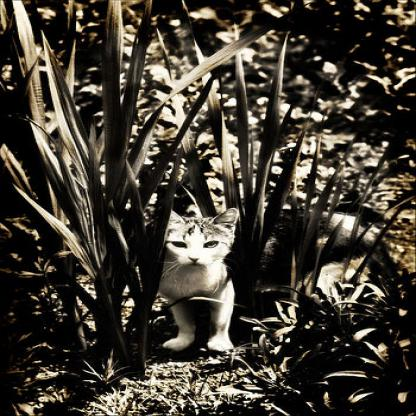cat: (139, 207, 402, 351)
